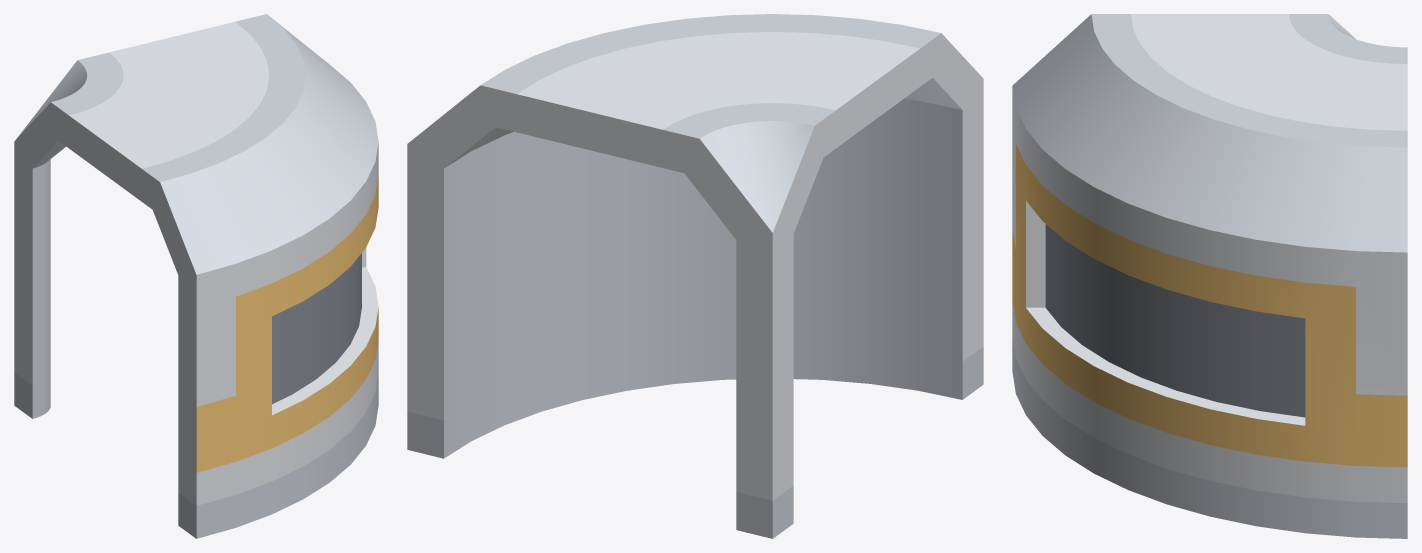
File: corridor_cornerRoundWindow.glb
3 renders of one model, left to right at view 1: azimuth 30°, elevation 25°; view 2: azimuth 150°, elevation 25°; view 3: azimuth 270°, elevation 25°, orthographic. The views are drawn at different scales.
Parts seen in each view (by area): view 1: corridor_cornerRoundWindow; view 2: corridor_cornerRoundWindow; view 3: corridor_cornerRoundWindow.
Part boxes in pixels (x1,y1,x2,y2): corridor_cornerRoundWindow: [14, 14, 378, 538]; corridor_cornerRoundWindow: [407, 14, 983, 538]; corridor_cornerRoundWindow: [1012, 14, 1407, 538].
Size of the model in its own units: 1 by 1 by 1.
